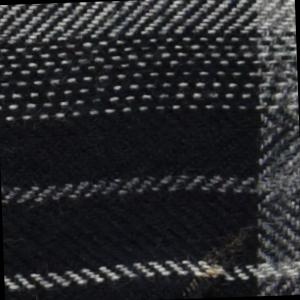Stain: (175, 228, 256, 300)
